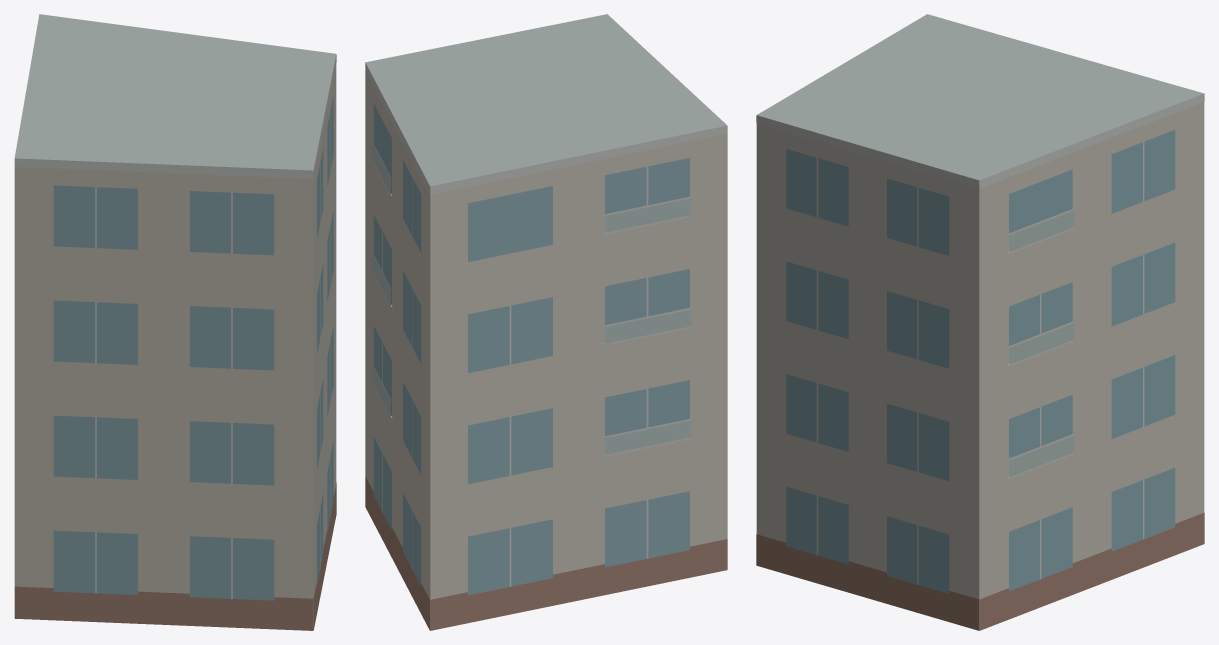
Rendered from survey-upis-33046758.glb.
The picture shows the model from 3 angles, left to right: view 1: azimuth 30°, elevation 25°; view 2: azimuth 150°, elevation 25°; view 3: azimuth 270°, elevation 25°; orthographic projection. The views are drawn at different scales.
Visible parts, largest first — view 1: survey-upis-33046758.tmp; view 2: survey-upis-33046758.tmp; view 3: survey-upis-33046758.tmp.
Part boxes in pixels (x1,y1,x2,y2): survey-upis-33046758.tmp: (14, 14, 336, 630); survey-upis-33046758.tmp: (365, 14, 727, 630); survey-upis-33046758.tmp: (756, 14, 1204, 630).
Bounding box in the file's own units: 10.47 × 13.2 × 11.9.
